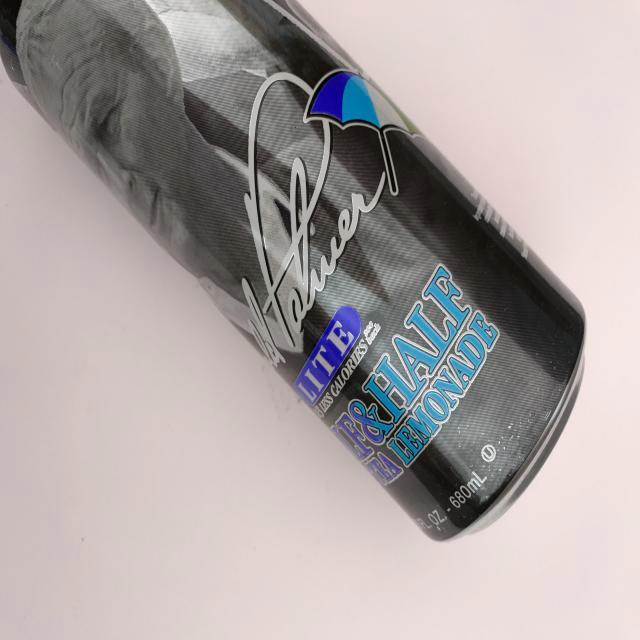metal: (0, 4, 598, 564)
